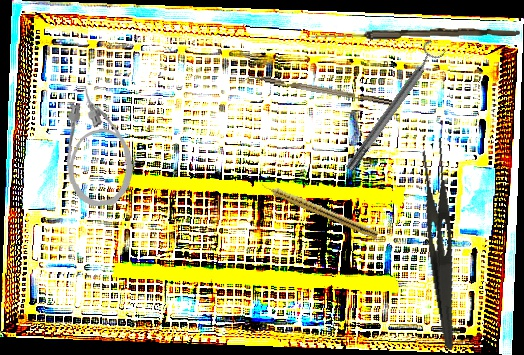Cannula: (63, 83, 135, 208)
Chopper: (240, 71, 393, 113)
Dressing Forceps: (411, 136, 477, 351)
Fixation Ring: (338, 38, 448, 176)
Handpiece: (258, 179, 381, 240)
Surgical Spoon: (310, 25, 521, 43)
